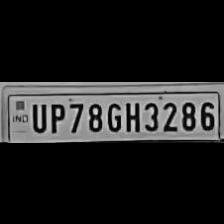2: (159, 98, 177, 132)
3: (141, 98, 158, 132)
6: (196, 97, 216, 129)
7: (64, 99, 84, 134)
8: (84, 100, 104, 132), (178, 97, 196, 129)
G: (104, 98, 122, 132)
H: (122, 98, 140, 132)
P: (46, 99, 66, 133)
U: (28, 100, 48, 132)
